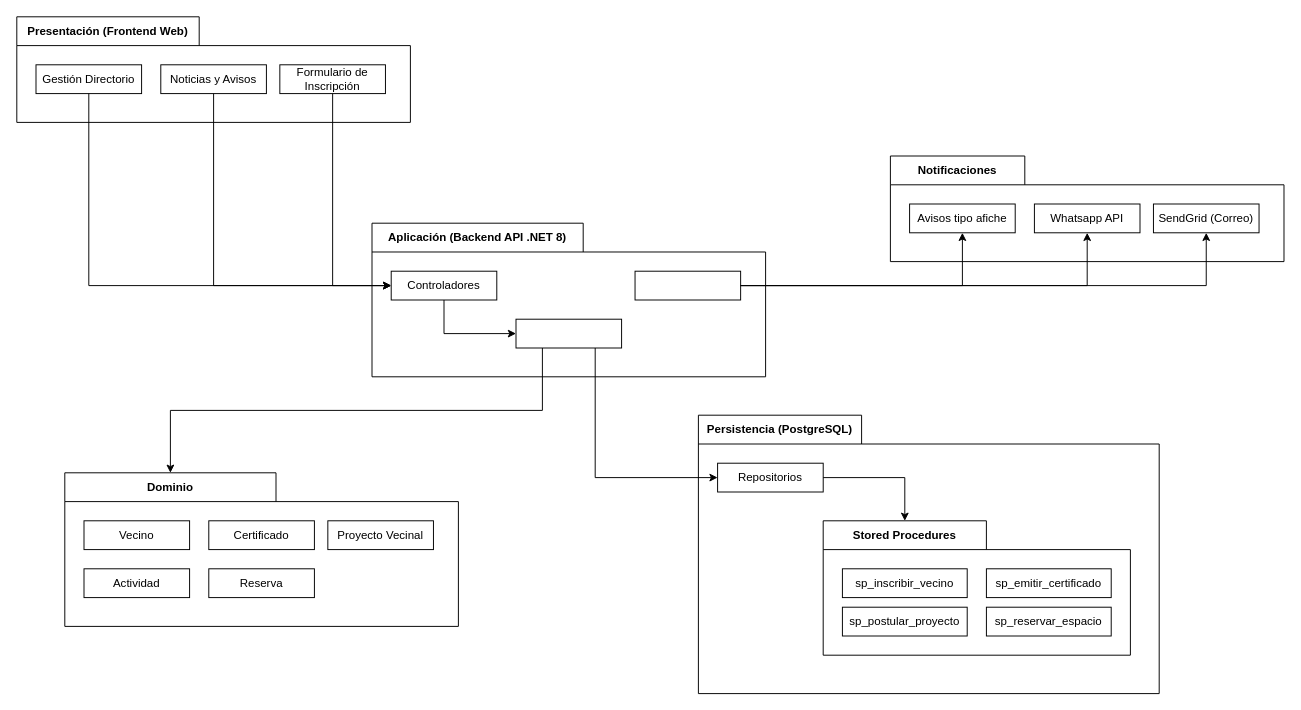
Image size: 1301x710. Some labels were removed from this diagram. The centre of each missing label's shape, as x and y in pixels:
"Integraciones Externas" goes at (x=687, y=285).
"Servicios de Dominio" goes at (x=568, y=333).
